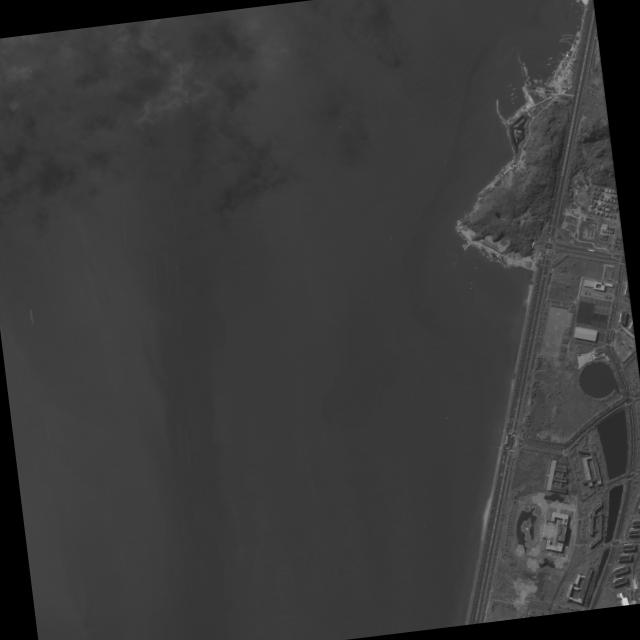ship: (545, 61, 550, 64), (559, 52, 563, 55), (509, 91, 513, 94), (501, 262, 504, 266), (507, 83, 511, 86), (547, 56, 552, 58), (560, 51, 563, 54), (522, 65, 525, 68), (511, 86, 514, 89), (509, 96, 512, 99), (513, 94, 516, 97), (556, 57, 559, 60), (551, 67, 554, 70), (551, 68, 554, 71), (523, 68, 527, 70), (495, 258, 497, 261), (521, 61, 524, 63), (522, 66, 525, 68), (523, 67, 526, 69), (523, 70, 526, 72), (480, 250, 482, 253), (485, 254, 487, 257), (496, 259, 499, 261), (481, 251, 483, 254), (482, 252, 484, 255), (525, 78, 528, 80), (524, 70, 527, 72), (524, 72, 527, 74), (524, 77, 527, 79), (525, 77, 528, 79), (526, 80, 529, 82), (527, 81, 530, 83), (527, 82, 530, 84), (522, 62, 524, 64), (522, 64, 524, 66), (522, 65, 524, 67), (523, 69, 527, 70), (496, 258, 498, 260), (478, 250, 480, 252), (500, 261, 502, 263), (498, 260, 500, 262), (524, 71, 526, 73), (525, 76, 529, 77), (528, 80, 530, 82), (536, 73, 539, 74), (492, 257, 493, 260), (489, 257, 490, 260), (527, 84, 530, 85), (478, 249, 479, 251), (491, 258, 492, 260), (490, 258, 491, 260), (488, 258, 489, 260), (486, 255, 487, 257)
